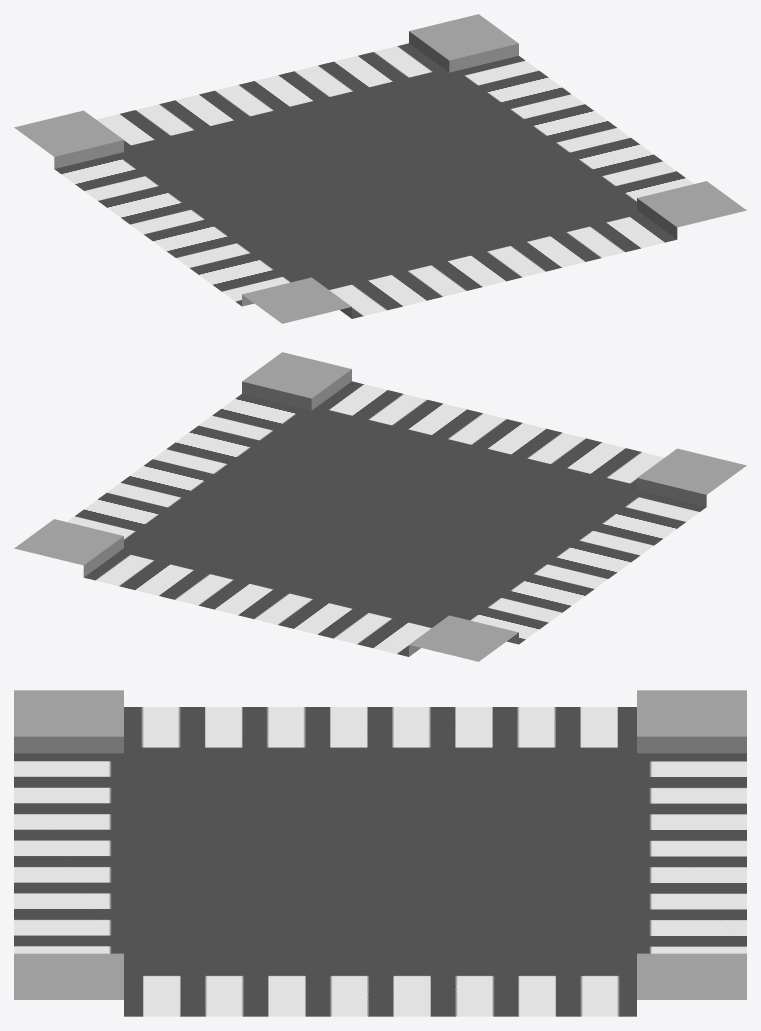
Rendered from Road-9.obj.
3 renders of one model, top to bottom at view 1: azimuth 30°, elevation 25°; view 2: azimuth 150°, elevation 25°; view 3: azimuth 270°, elevation 25°, orthographic. The views are drawn at different scales.
Visible parts, largest first — view 1: Plane.001; view 2: Plane.001; view 3: Plane.001.
Boxes of the visible parts, x1,y1,x2,y2 form: Plane.001: (14, 14, 746, 323); Plane.001: (14, 352, 746, 661); Plane.001: (14, 690, 746, 1016).
Size of the model in its own units: 20 by 0.5 by 20.
